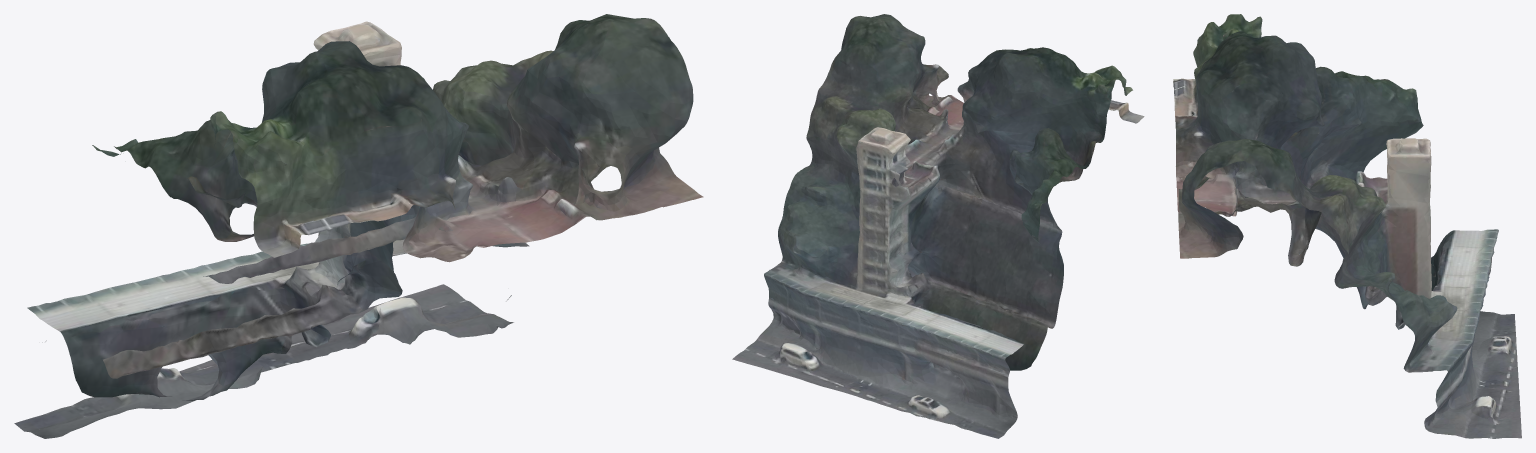
File: Tile_+012_+008_L21_0000013000.glb
3 renders of one model, left to right at view 1: azimuth 30°, elevation 25°; view 2: azimuth 150°, elevation 25°; view 3: azimuth 270°, elevation 25°, orthographic. The views are drawn at different scales.
Visible parts, largest first — view 1: rtc; view 2: rtc; view 3: rtc.
Part boxes in pixels (x1,y1,x2,y2): rtc: [14, 14, 703, 438]; rtc: [732, 14, 1144, 438]; rtc: [1173, 14, 1521, 438].
Bounding box in the file's own units: 32.01 × 32.44 × 32.01.
Materials: 1 (1 with a texture image).
